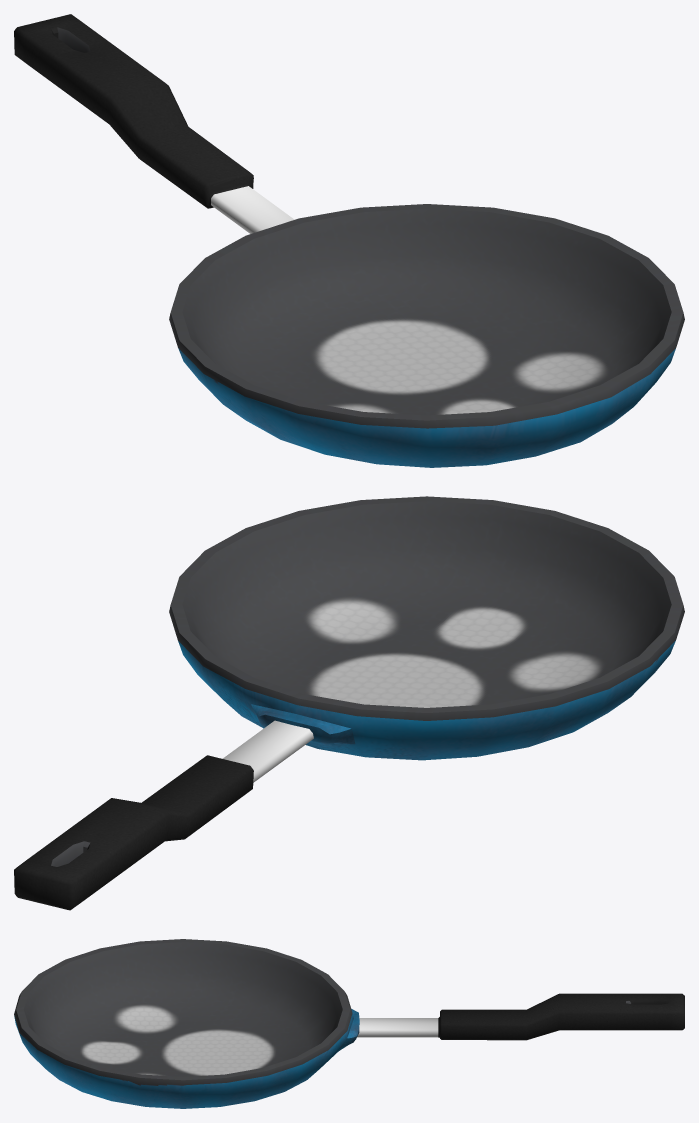
The model's file is Modeling_kitchen_frying pan.FBX.
3 views of the same model, one above another, from view 1: azimuth 30°, elevation 25°; view 2: azimuth 150°, elevation 25°; view 3: azimuth 270°, elevation 25° (orthographic). The views are drawn at different scales.
Parts seen in each view (by area): view 1: frying pan; view 2: frying pan; view 3: frying pan.
Part boxes in pixels (left/top/right/bottom): frying pan: left=14, top=14, right=684, bottom=467; frying pan: left=14, top=496, right=684, bottom=910; frying pan: left=14, top=939, right=684, bottom=1108.
Bounding box in the file's own units: 40.74 × 7.82 × 81.33.
